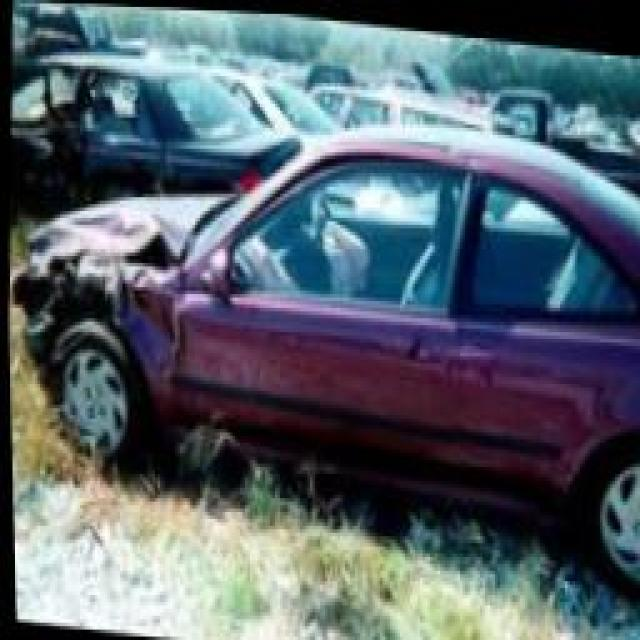Bonnet: (15, 184, 231, 269)
Bumper: (11, 280, 47, 401)
Fender: (23, 269, 190, 421)
